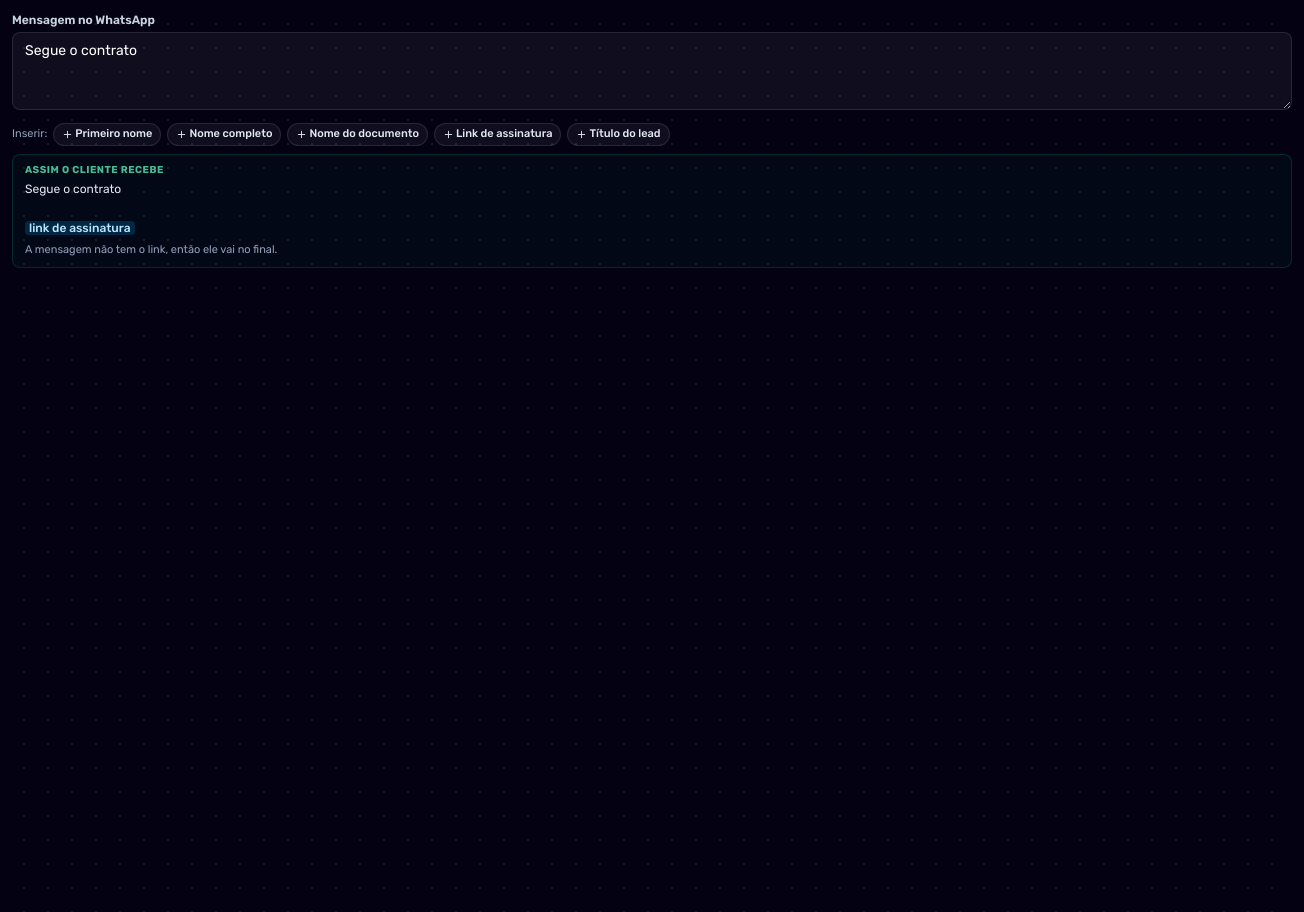
SignMessageField › sem mexer no campo, a variável entra no fim
This screenshot has width=1304, height=912.
Click the button "Link de assinatura".
click(498, 134)  # box [434, 123, 562, 146]
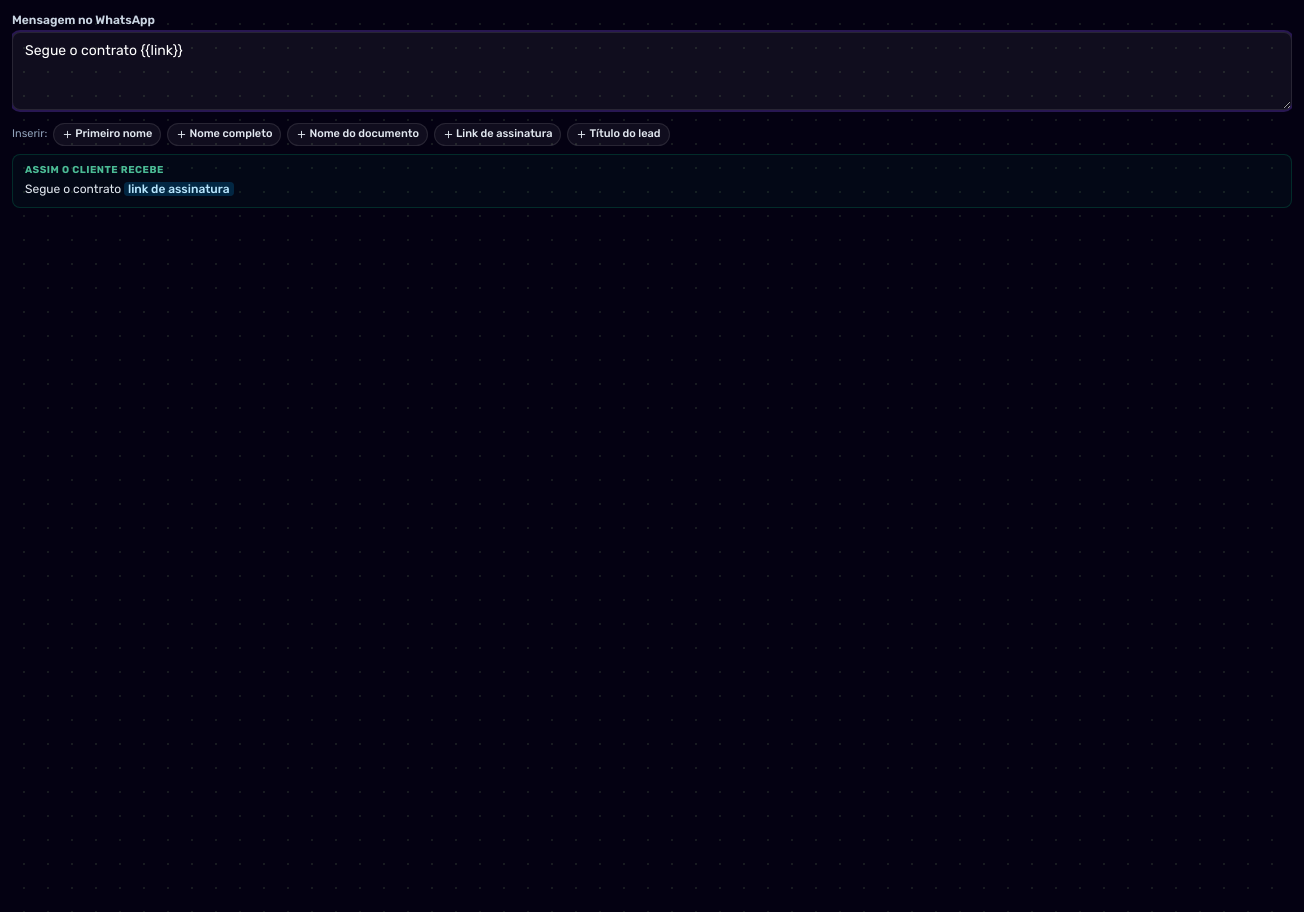
Check: the text box labelled "Mensagem no WhatsApp" holds "Segue o contrato {{link}}", box [12, 32, 1292, 110]
